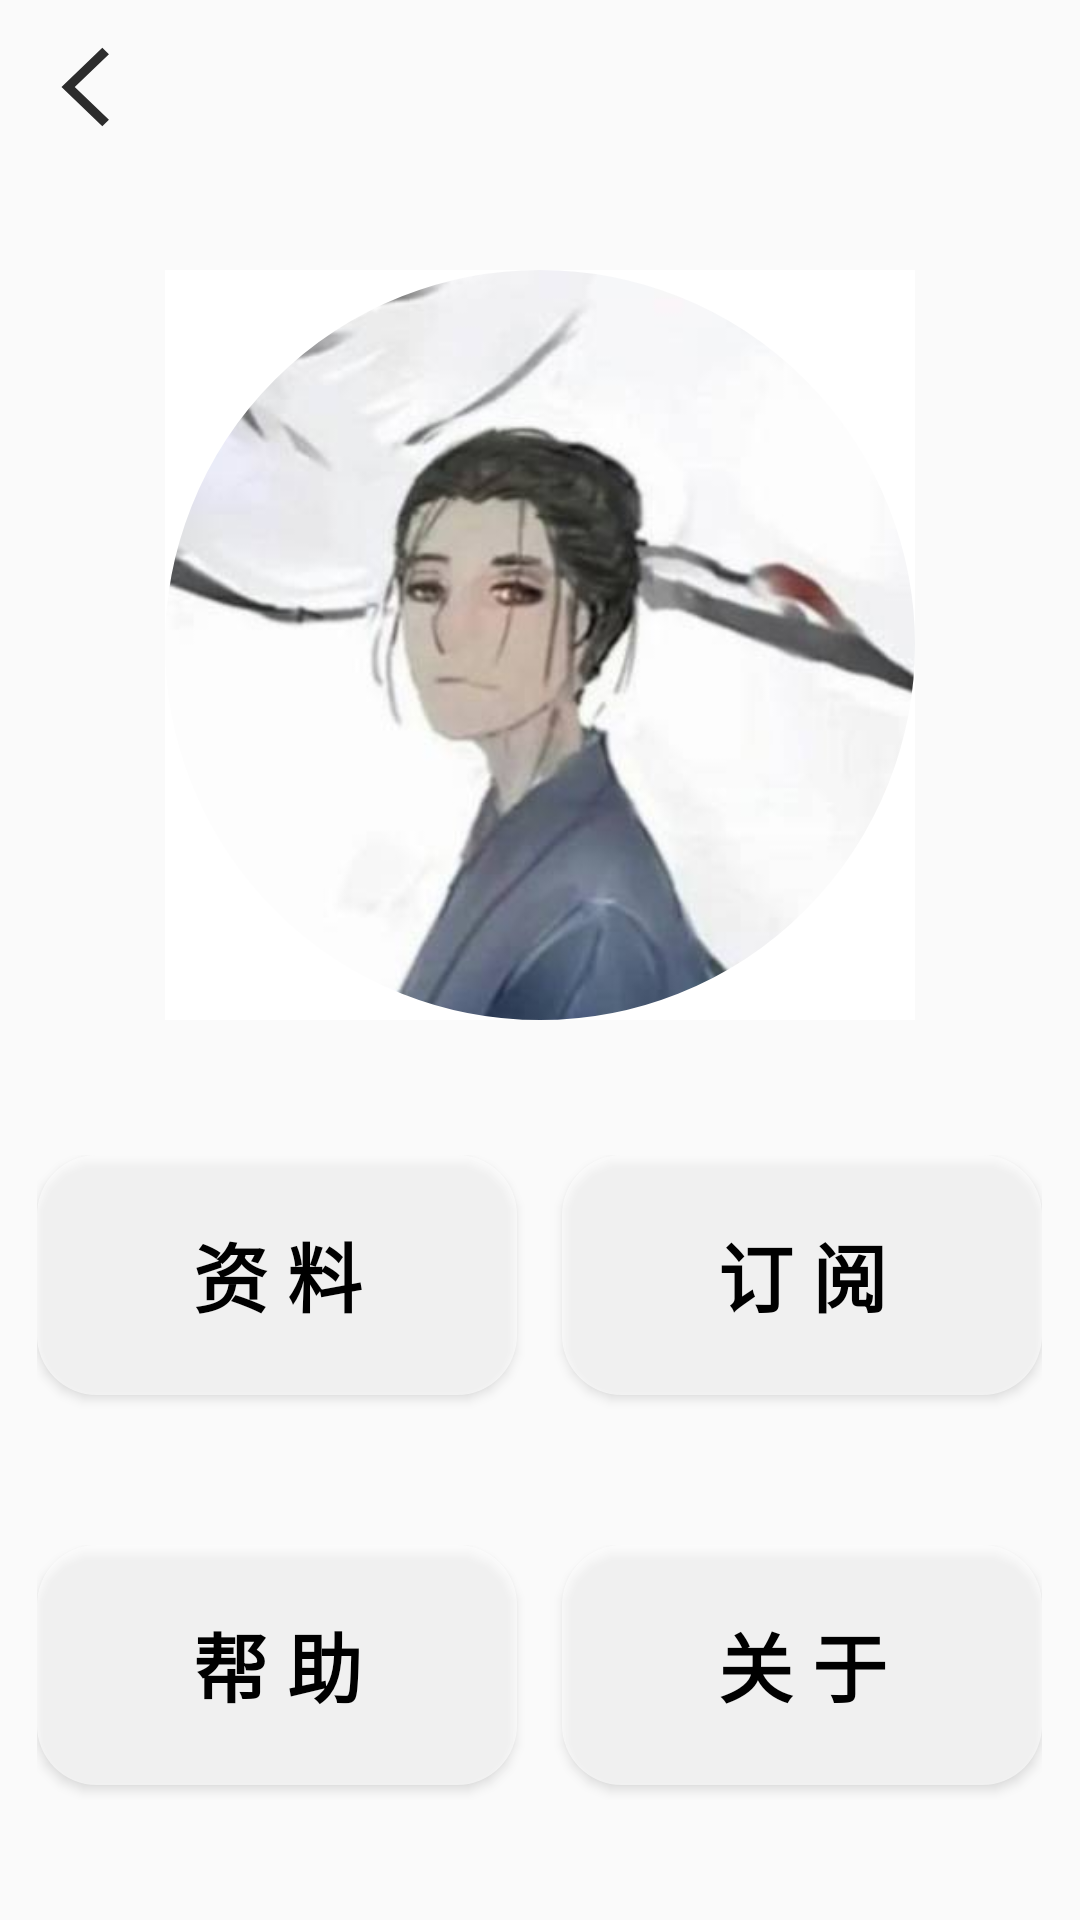

Point at icon controls on the screen. Image size 1080w x 1920h, points as (x=x, y=y).
back: (x=85, y=87)
